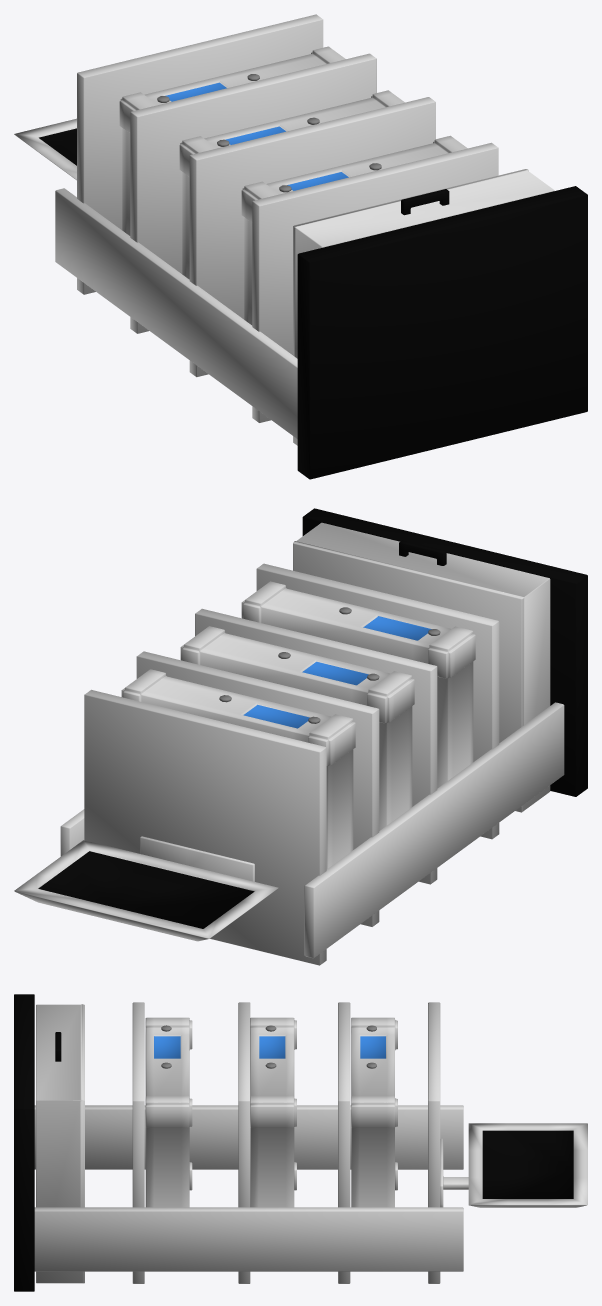
3 renders of one model, top to bottom at view 1: azimuth 30°, elevation 25°; view 2: azimuth 150°, elevation 25°; view 3: azimuth 270°, elevation 25°, orthographic. The views are drawn at different scales.
Parts seen in each view (by area): view 1: Circle.001; view 2: Circle.001; view 3: Circle.001.
Boxes of the visible parts, left/top/right/bottom form: Circle.001: left=14, top=14, right=587, bottom=479; Circle.001: left=14, top=508, right=587, bottom=965; Circle.001: left=14, top=994, right=587, bottom=1291.
Size of the model in its own units: 73.82 by 58.42 by 156.
